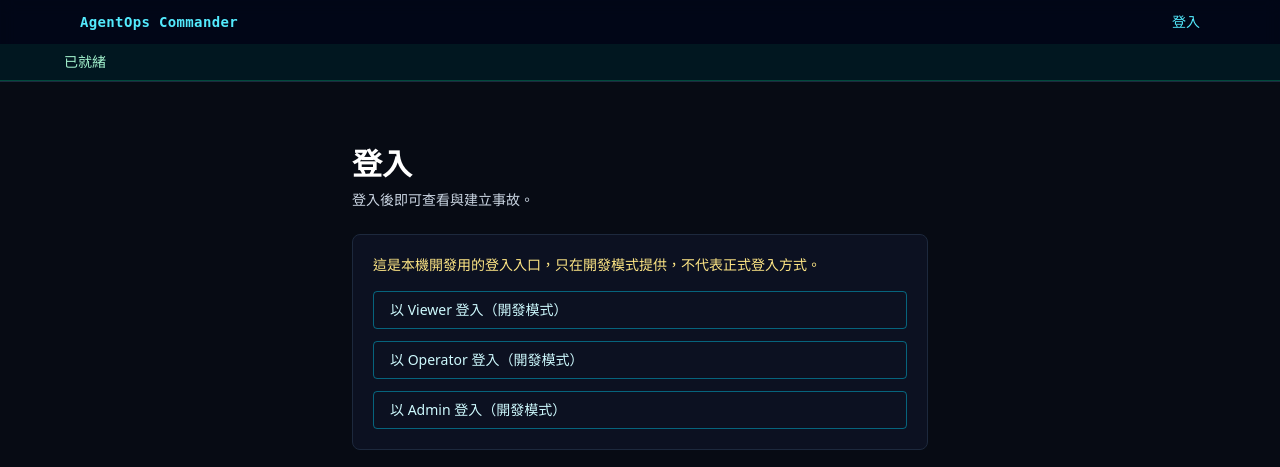
Test: /login › 登入成功：回跳 /incidents 並顯示 email 與角色徽章
Step 1. Click the button "以 Operator 登入（開發模式）" → (487, 360), box 373,341 -> 907,379
Wait 60 ms
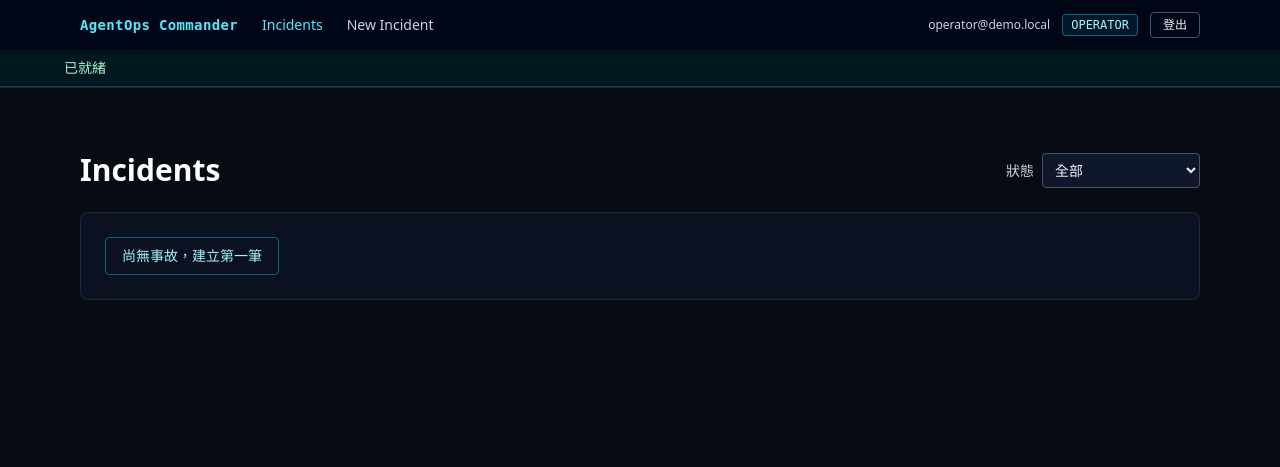
Expected: the text "operator@demo.local" is shown, 928,17 -> 1050,33
